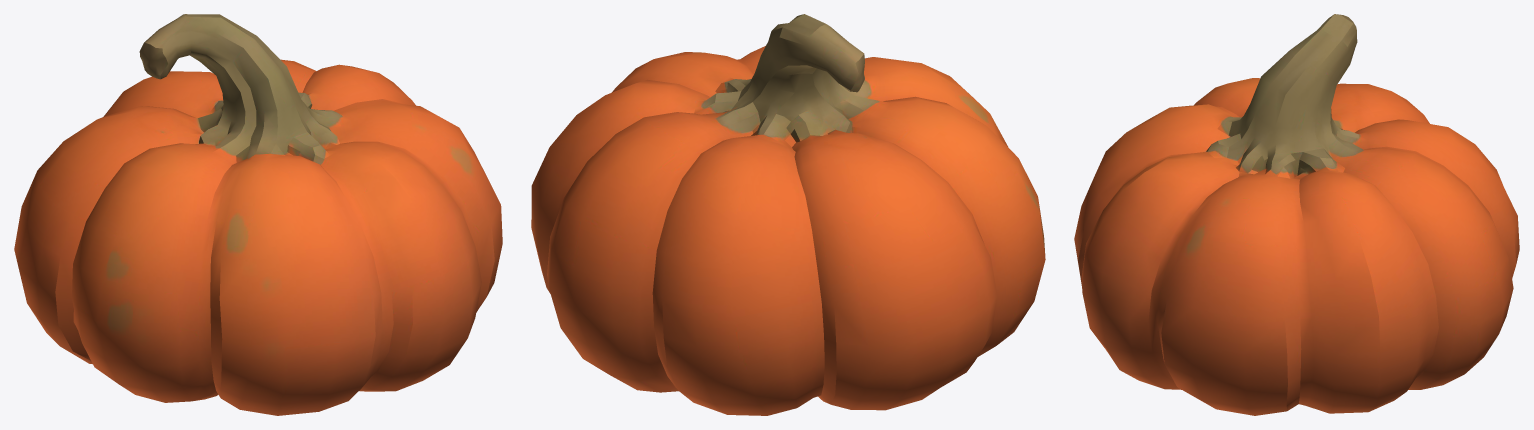
Rendered from Manor_Pumpkin_01.glb.
The picture shows the model from 3 angles, left to right: view 1: azimuth 30°, elevation 25°; view 2: azimuth 150°, elevation 25°; view 3: azimuth 270°, elevation 25°; orthographic projection. The views are drawn at different scales.
Parts seen in each view (by area): view 1: Manor_Pumpkin_01.001; view 2: Manor_Pumpkin_01.001; view 3: Manor_Pumpkin_01.001.
Boxes of the visible parts, left/top/right/bottom form: Manor_Pumpkin_01.001: left=14, top=14, right=502, bottom=415; Manor_Pumpkin_01.001: left=531, top=14, right=1045, bottom=415; Manor_Pumpkin_01.001: left=1074, top=14, right=1519, bottom=415.
Size of the model in its own units: 1 by 0.7738 by 0.9914.
Materials: 1 (1 with a texture image).
